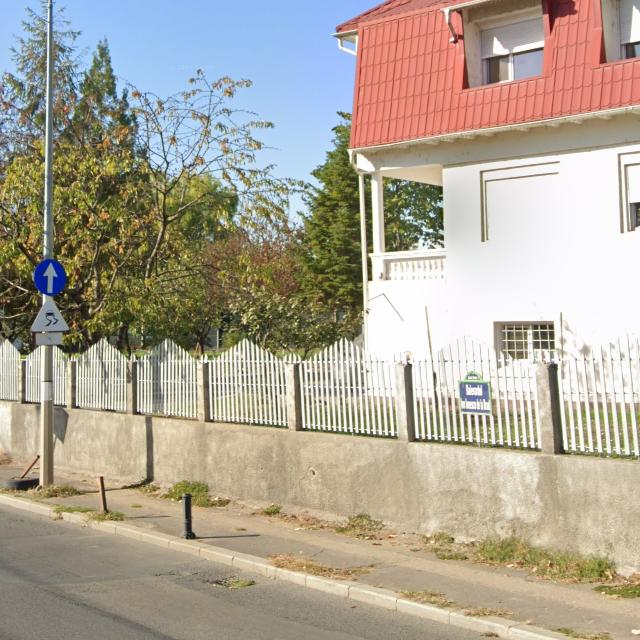mand_straight: (34, 258, 66, 297)
warn_slippery_road: (30, 297, 70, 332)
